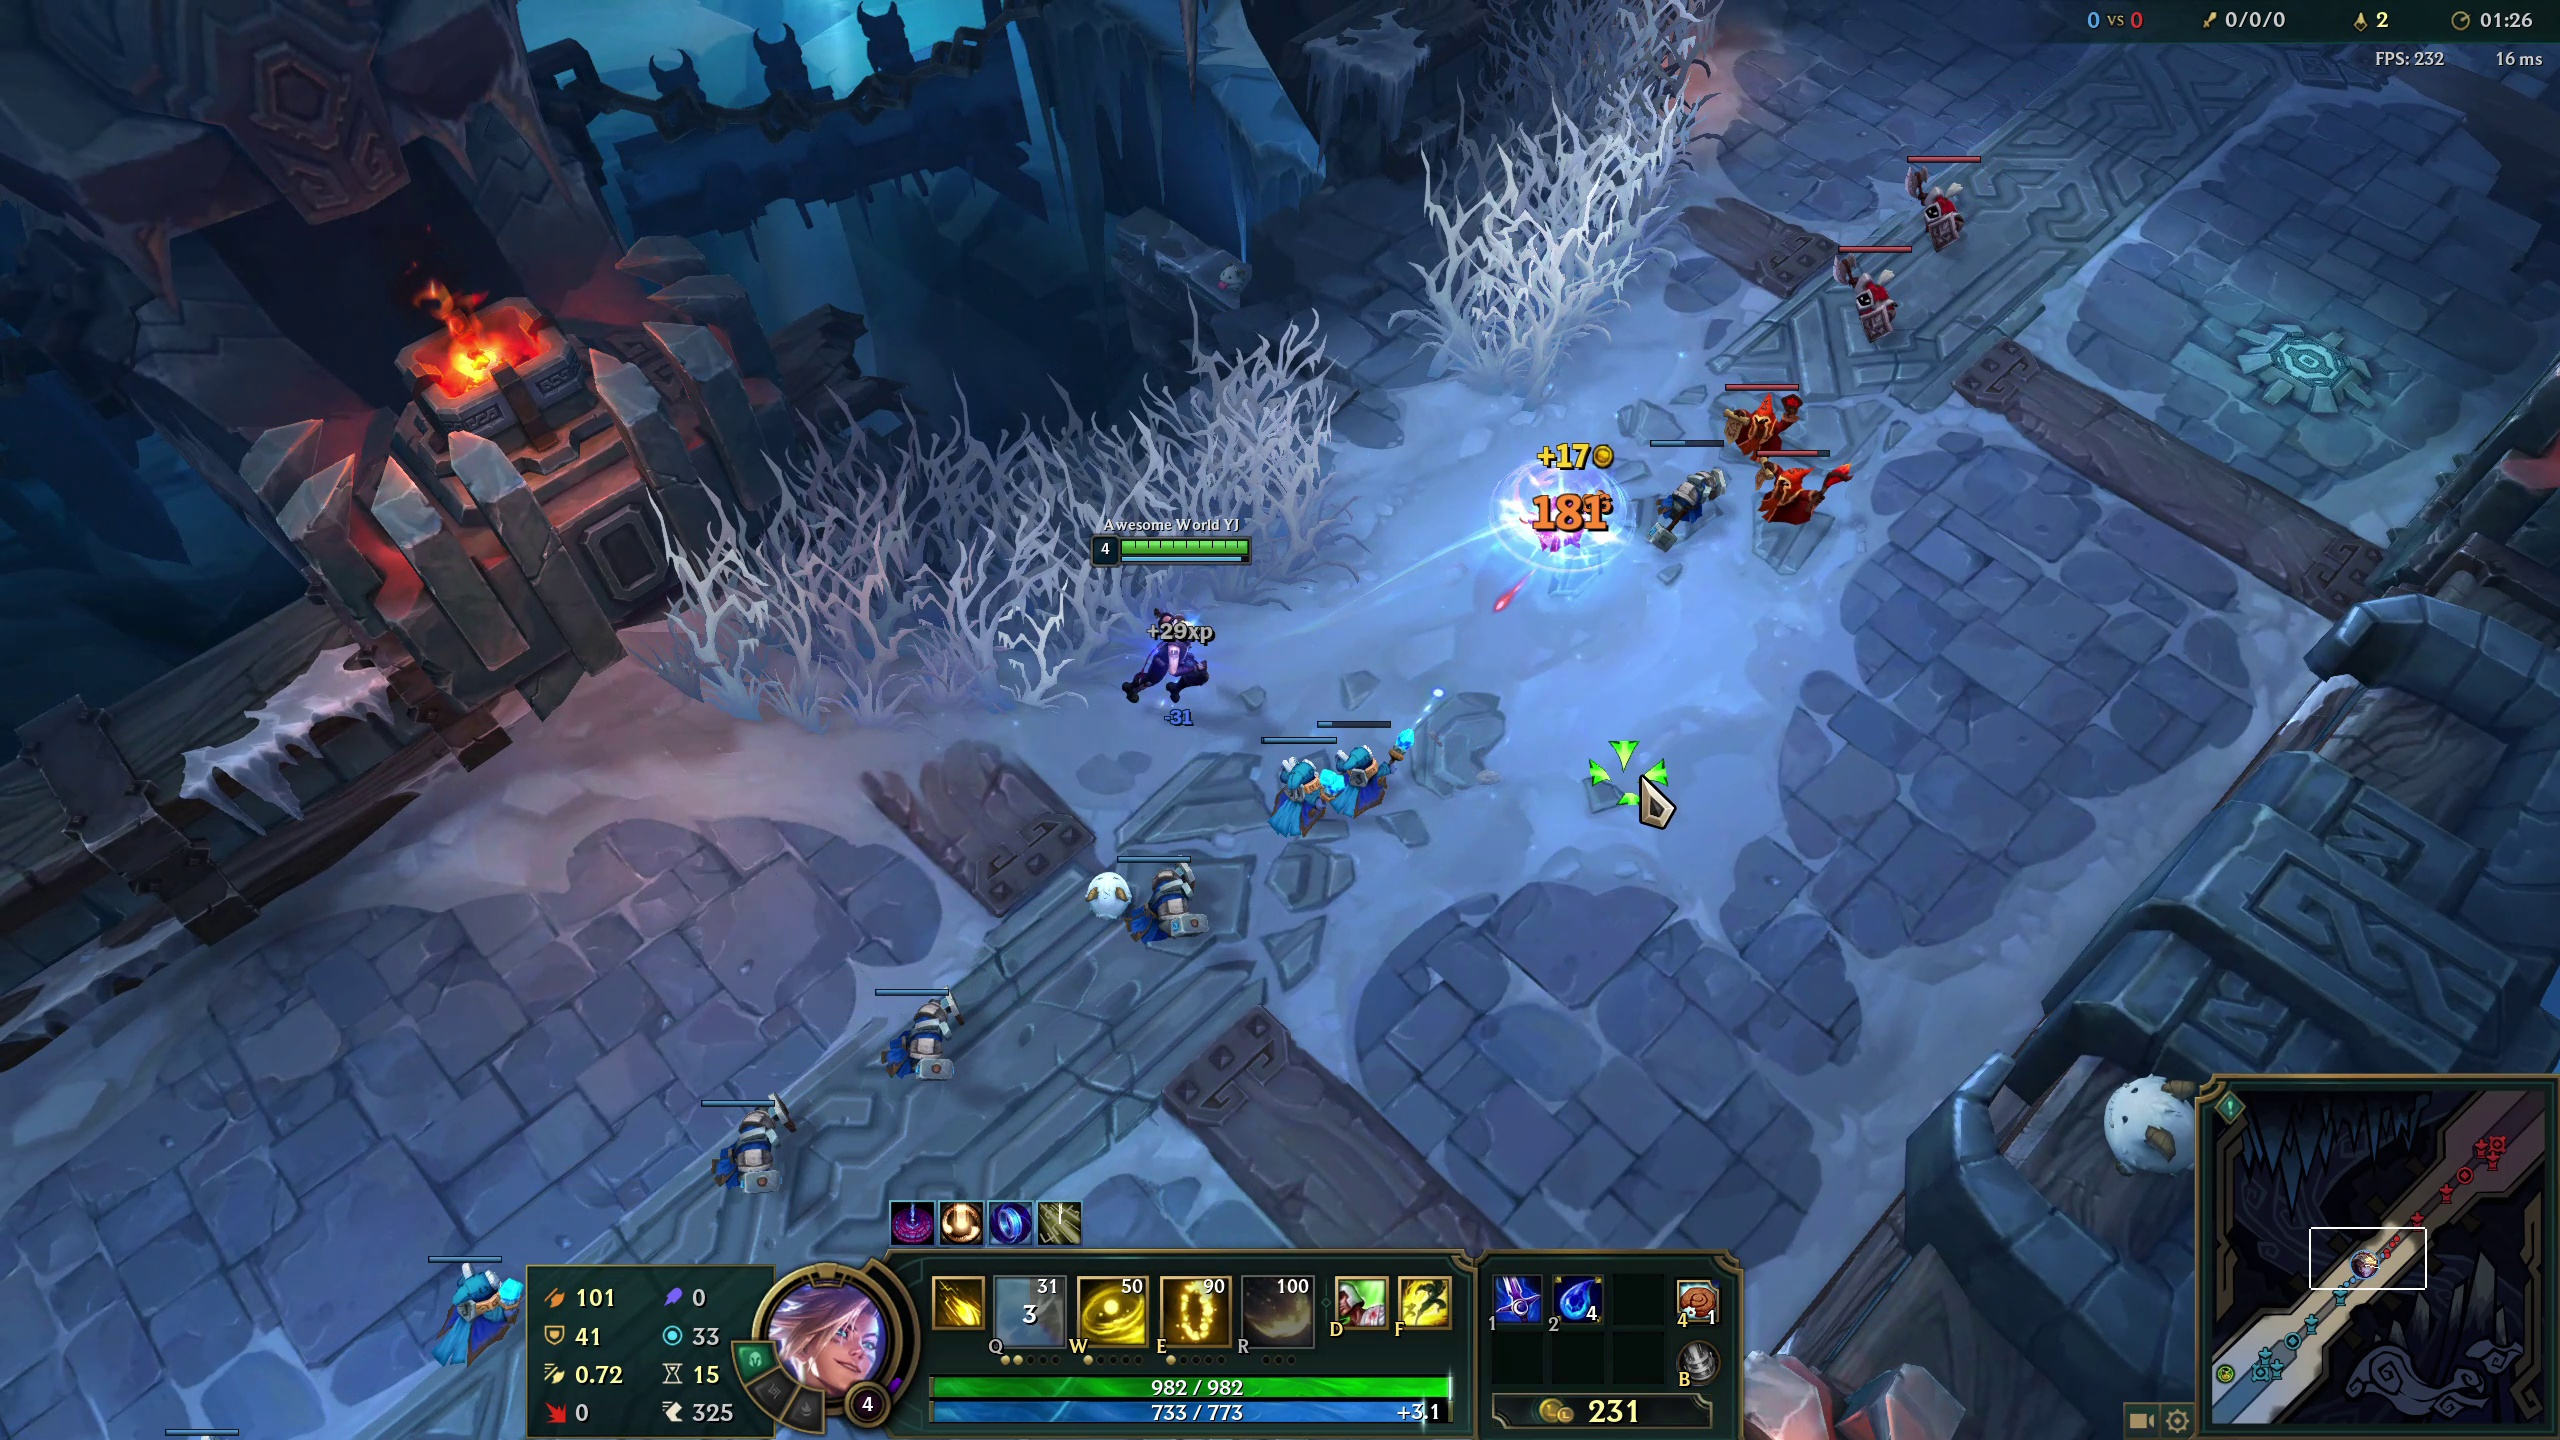EZ: (1097, 520, 1254, 747)
EnemyMinion: (1758, 445, 1846, 536), (1727, 371, 1806, 468), (1909, 151, 1987, 248), (1830, 236, 1908, 331)
Glass: (737, 484, 1285, 629), (1493, 40, 1647, 334)
MyMinion: (693, 1095, 804, 1215), (856, 971, 967, 1090), (1111, 846, 1222, 965), (1231, 731, 1342, 851), (411, 1240, 522, 1357), (1319, 705, 1424, 805), (1640, 441, 1744, 542), (1333, 679, 1422, 777)
